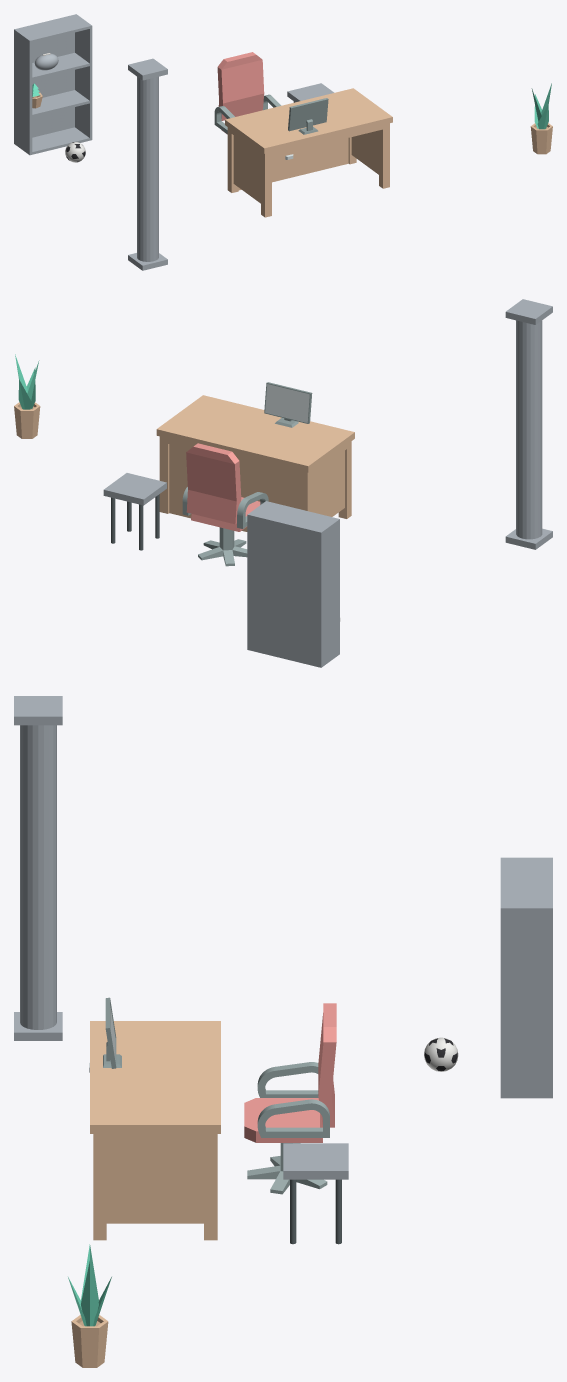
3 views of the same model, one above another, from view 1: azimuth 30°, elevation 25°; view 2: azimuth 150°, elevation 25°; view 3: azimuth 270°, elevation 25° (orthographic). The views are drawn at different scales.
Parts seen in each view (by area): view 1: desk_blue__desk(Clone), column_cyan__column_cyan shaft, deskchair_black__chair, shelf_orange__shelf_orange back, shelf_orange__shelf_orange side_l, shelf_orange__shelf_orange side_r, monitor_gray__computerScreen(Clone), shelf_orange__shelf_orange board3, shelf_orange__shelf_orange board0, shelf_orange__shelf_orange board1, shelf_orange__shelf_orange board2, column_cyan__column_cyan capital (+7 smaller); view 2: desk_blue__desk(Clone), shelf_orange__shelf_orange back, column_cyan__column_cyan shaft, deskchair_black__chair, shelf_orange__shelf_orange side_l, monitor_gray__computerScreen(Clone), stool_purple__stool_purple seat, shelf_orange__shelf_orange board3, deskchair_black__chairDesk(Clone), column_cyan__column_cyan capital, plant_pink__pottedPlant(Clone), plant_pink__plant (+2 smaller); view 3: desk_blue__desk(Clone), column_cyan__column_cyan shaft, shelf_orange__shelf_orange side_r, deskchair_black__chair, stool_purple__stool_purple seat, shelf_orange__shelf_orange board3, plant_pink__pottedPlant(Clone), column_cyan__column_cyan capital, plant_pink__plant, deskchair_black__chairDesk(Clone), soccer_white__soccer_white, column_cyan__column_cyan plinth.
Boxes of the visible parts, x1,y1,x2,y2 form: desk_blue__desk(Clone): (225, 88, 392, 217); column_cyan__column_cyan shaft: (137, 76, 158, 261); deskchair_black__chair: (214, 52, 281, 134); shelf_orange__shelf_orange back: (17, 15, 74, 137); shelf_orange__shelf_orange side_l: (14, 29, 32, 155); shelf_orange__shelf_orange side_r: (74, 14, 92, 140); monitor_gray__computerScreen(Clone): (288, 98, 328, 134); shelf_orange__shelf_orange board3: (17, 15, 89, 42); shelf_orange__shelf_orange board0: (32, 127, 89, 154); shelf_orange__shelf_orange board1: (32, 90, 89, 117); shelf_orange__shelf_orange board2: (32, 52, 89, 79); column_cyan__column_cyan capital: (128, 58, 167, 80); desk_blue__desk(Clone): (156, 395, 354, 531); shelf_orange__shelf_orange back: (250, 514, 319, 666); column_cyan__column_cyan shaft: (516, 320, 542, 539); deskchair_black__chair: (182, 443, 268, 531); shelf_orange__shelf_orange side_l: (318, 518, 339, 667); monitor_gray__computerScreen(Clone): (264, 382, 312, 427); stool_purple__stool_purple seat: (103, 473, 166, 505); shelf_orange__shelf_orange board3: (252, 502, 336, 530); deskchair_black__chairDesk(Clone): (198, 527, 247, 566); column_cyan__column_cyan capital: (505, 299, 552, 324); plant_pink__pottedPlant(Clone): (14, 402, 40, 438); plant_pink__plant: (15, 354, 39, 409); desk_blue__desk(Clone): (90, 1021, 220, 1240); column_cyan__column_cyan shaft: (20, 725, 56, 1029); shelf_orange__shelf_orange side_r: (500, 906, 552, 1098); deskchair_black__chair: (244, 1003, 336, 1142); stool_purple__stool_purple seat: (283, 1143, 348, 1179); shelf_orange__shelf_orange board3: (500, 859, 549, 906); plant_pink__pottedPlant(Clone): (71, 1315, 108, 1367); column_cyan__column_cyan capital: (14, 696, 62, 725); plant_pink__plant: (68, 1244, 111, 1326); deskchair_black__chairDesk(Clone): (247, 1143, 327, 1194); soccer_white__soccer_white: (424, 1037, 458, 1071); column_cyan__column_cyan plinth: (14, 1012, 62, 1040).
Size of the model in its own units: 5.29 by 2.28 by 3.44.
